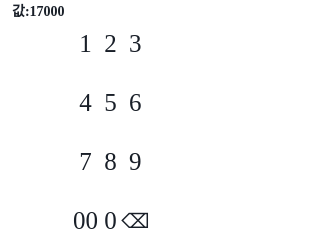
Keypad › 채워진 값을 고칠 때 첫 숫자는 이어 붙지 않고 갈아엎는다
Click the button labelled "5" at [110, 103], box x1=100 y1=75 x2=121 y2=131
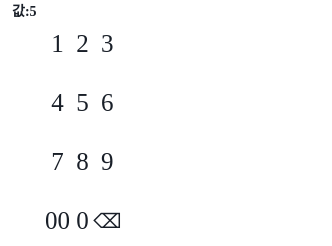
Expected: the text "값:5" is shown, x1=12 y1=4 x2=36 y2=19
